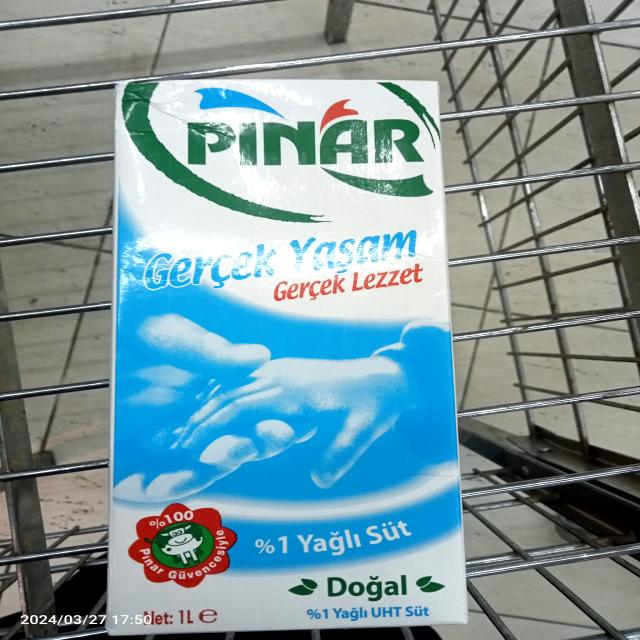milk: (100, 64, 467, 634)
